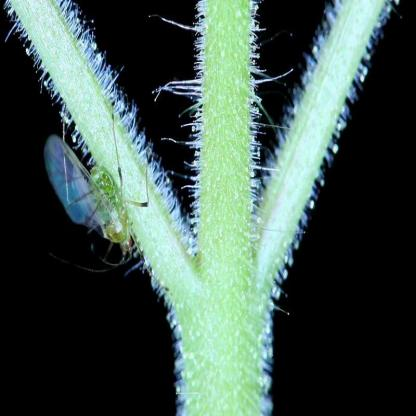aphid: (38, 96, 151, 270)
